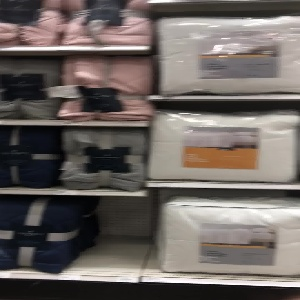void: (80, 195, 158, 275)
